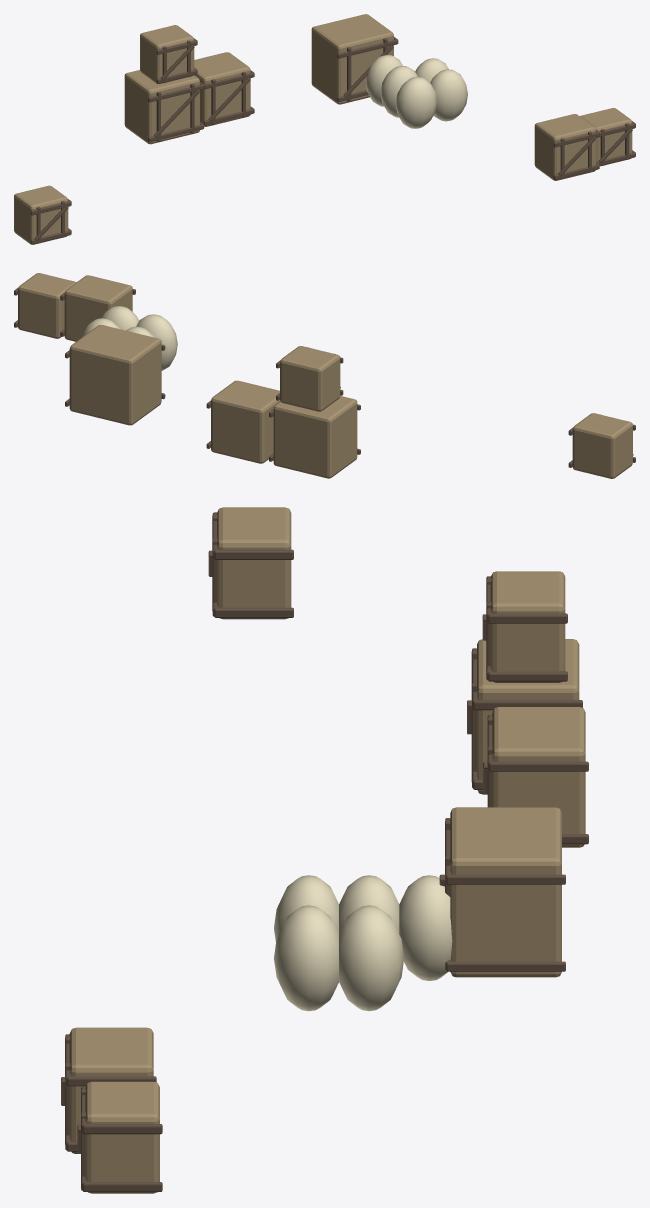
Rendered from SM_Cargo.fbx.
The picture shows the model from 3 angles, top to bottom: view 1: azimuth 30°, elevation 25°; view 2: azimuth 150°, elevation 25°; view 3: azimuth 270°, elevation 25°; orthographic projection. The views are drawn at different scales.
Visible parts, largest first — view 1: SM_Cargo; view 2: SM_Cargo; view 3: SM_Cargo.
Boxes of the visible parts, x1=… form: SM_Cargo: x1=14, y1=14, x2=635, y2=244; SM_Cargo: x1=14, y1=273, x2=635, y2=478; SM_Cargo: x1=61, y1=507, x2=588, y2=1193.
Size of the model in its own units: 1206 by 482 by 263.
